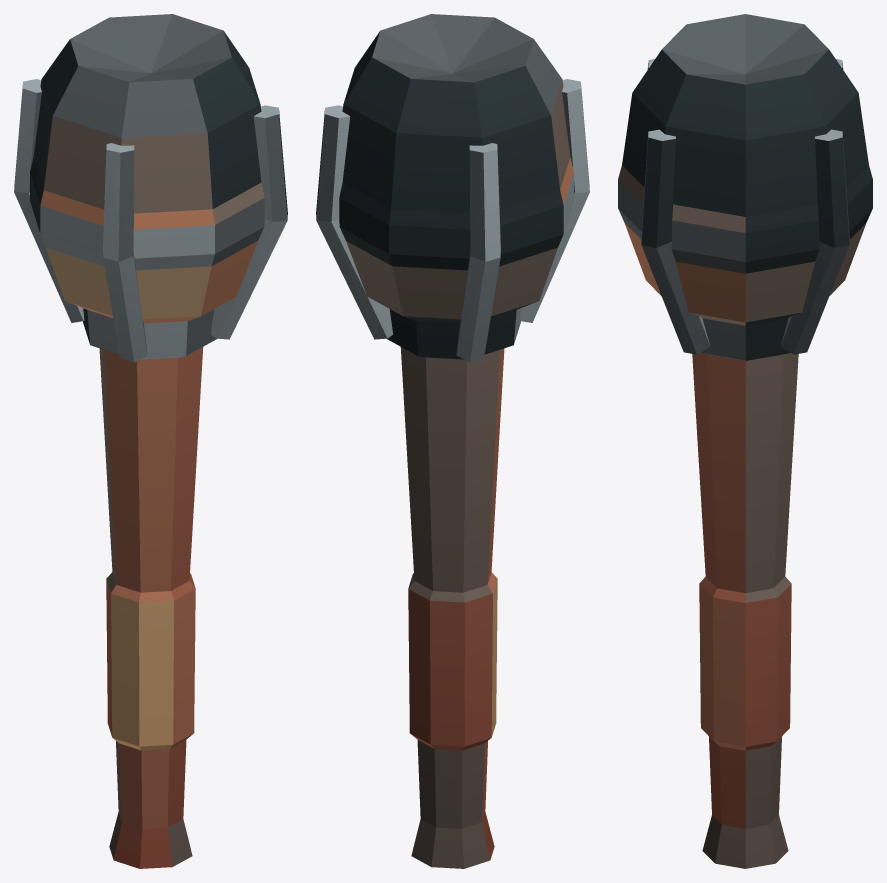
The model's file is tool_torch_wooden.glb.
The picture shows the model from 3 angles, left to right: view 1: azimuth 30°, elevation 25°; view 2: azimuth 150°, elevation 25°; view 3: azimuth 270°, elevation 25°; orthographic projection.
Visible parts, largest first — view 1: model; view 2: model; view 3: model.
Boxes of the visible parts, left/top/right/bottom form: model: left=14, top=14, right=287, bottom=868; model: left=316, top=14, right=589, bottom=868; model: left=618, top=14, right=872, bottom=868.
Bounding box in the file's own units: 0.32 × 1.11 × 0.32.
1 material, 1 textured.
